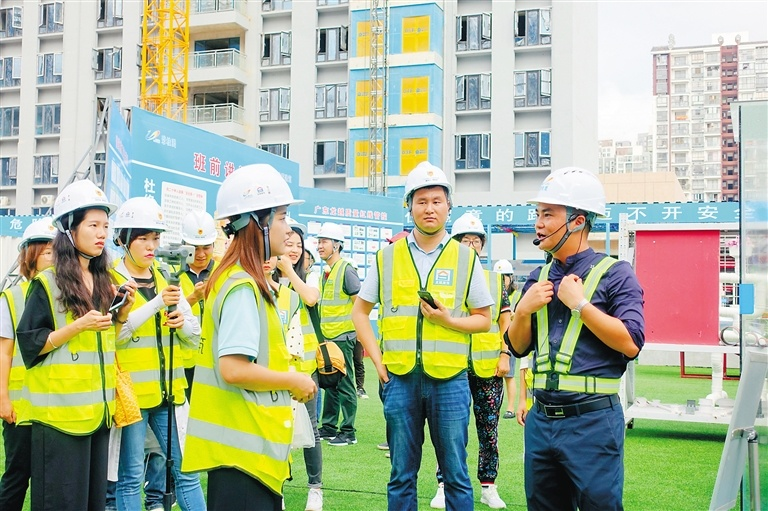white: (213, 162, 292, 257), (530, 163, 602, 255), (52, 175, 109, 263), (399, 157, 453, 236), (111, 193, 165, 271), (175, 207, 220, 272), (16, 216, 62, 277), (448, 212, 485, 255), (314, 221, 347, 261), (280, 214, 305, 264), (493, 260, 515, 291)
